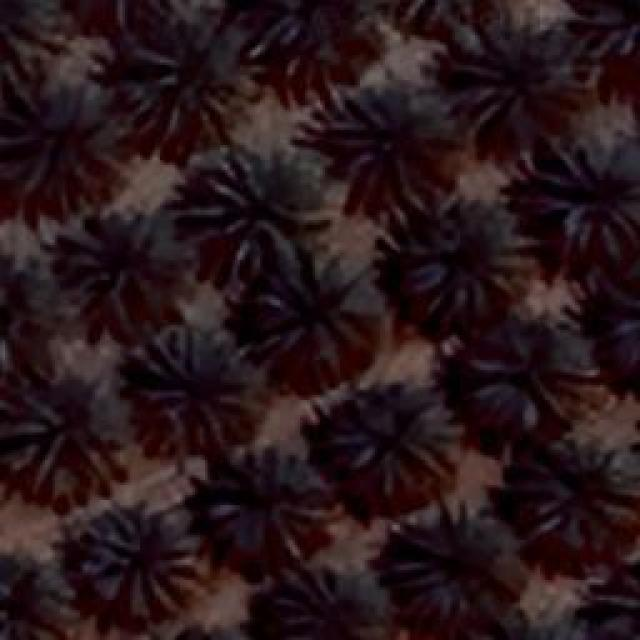PalmTree: (30, 30, 610, 88), (190, 150, 330, 272), (195, 450, 338, 568), (122, 12, 260, 130), (512, 444, 640, 566), (395, 205, 530, 320), (450, 315, 580, 433), (0, 375, 120, 500), (330, 374, 460, 488), (0, 97, 125, 215), (382, 522, 518, 628), (330, 96, 452, 206), (464, 36, 584, 146), (68, 216, 192, 322), (82, 510, 202, 615), (148, 336, 258, 446), (257, 255, 365, 358), (542, 140, 638, 250), (244, 0, 362, 85), (252, 570, 386, 640), (582, 260, 640, 380), (4, 254, 54, 368), (5, 547, 62, 640), (464, 613, 597, 640), (55, 0, 193, 25), (600, 555, 640, 640), (382, 0, 508, 22), (465, 623, 595, 640), (144, 624, 264, 640)
